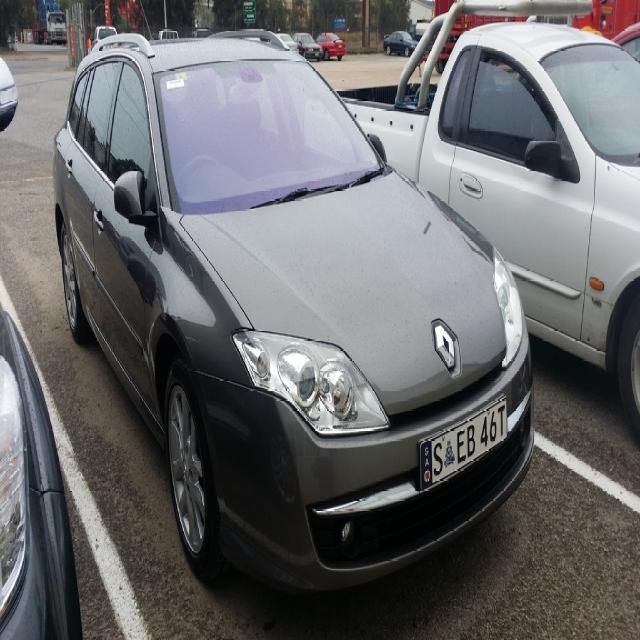car: (52, 0, 533, 587)
